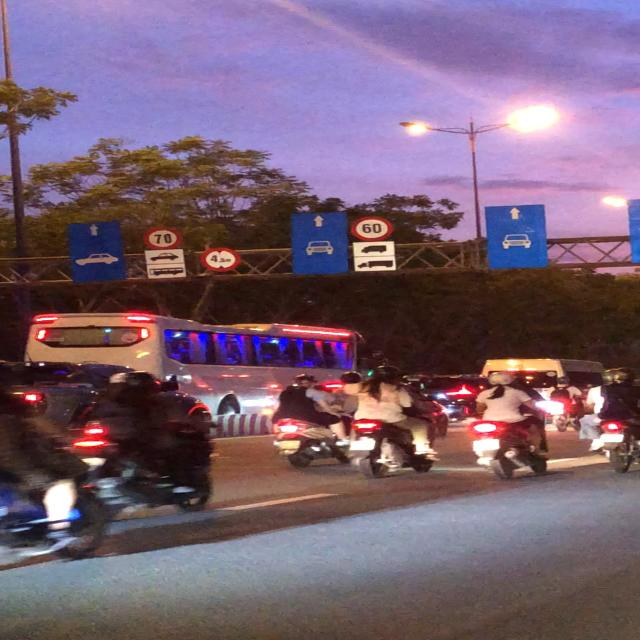Bien bao han che chieu cao: (198, 245, 251, 275)
Bien bao toc do toi da cho phep: (348, 214, 397, 241), (140, 224, 187, 251)
